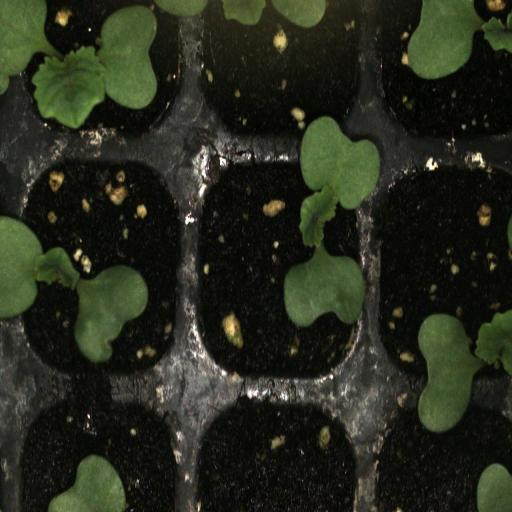Folha: (418, 309, 512, 433), (407, 0, 512, 80), (48, 454, 128, 512), (220, 0, 328, 30), (477, 463, 512, 512)
Germinacao: (14, 140, 191, 387), (191, 140, 364, 392), (22, 0, 192, 139)
